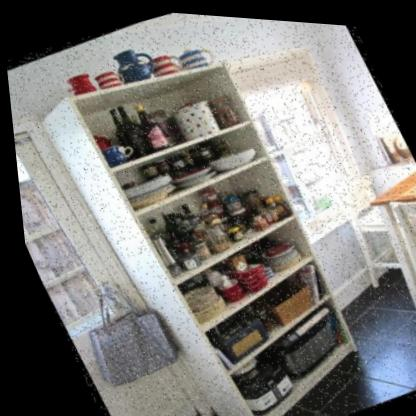Shelf: (15, 14, 398, 416)
